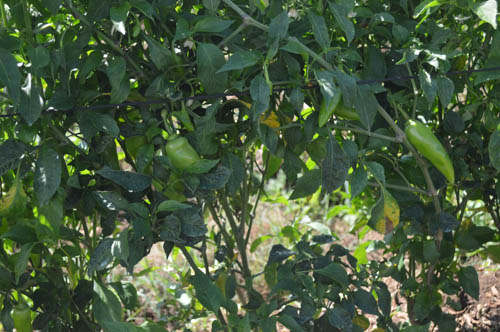ChiliPepper: (408, 116, 462, 181), (319, 87, 344, 129), (169, 138, 203, 167)
